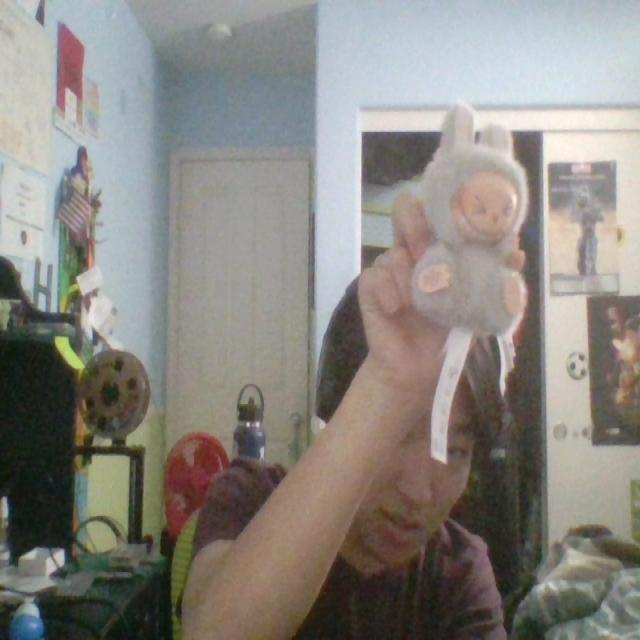labubu: (413, 108, 528, 336)
